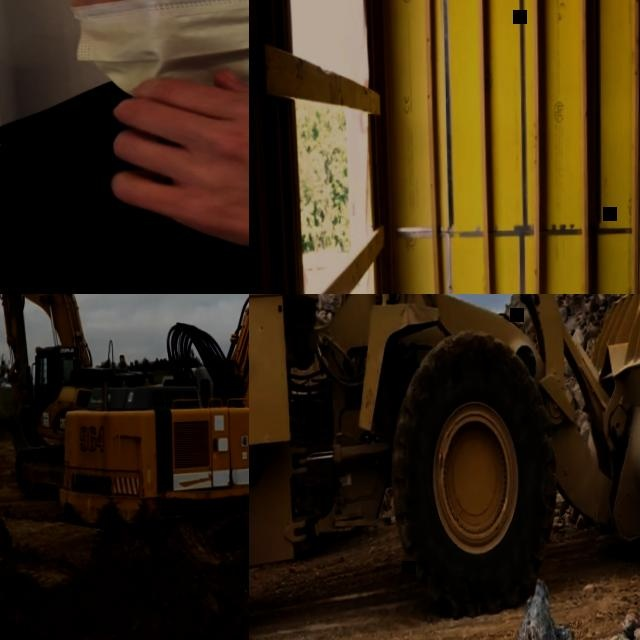Mask: (62, 0, 249, 114)
NO-Safety Vest: (0, 113, 249, 294)
Person: (0, 0, 249, 294), (40, 359, 59, 411)
machinery: (249, 294, 640, 640), (52, 294, 249, 603), (0, 294, 155, 503)
